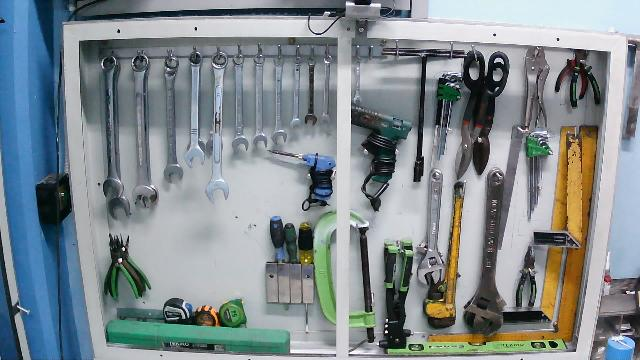gun_lem: (352, 103, 414, 214)
